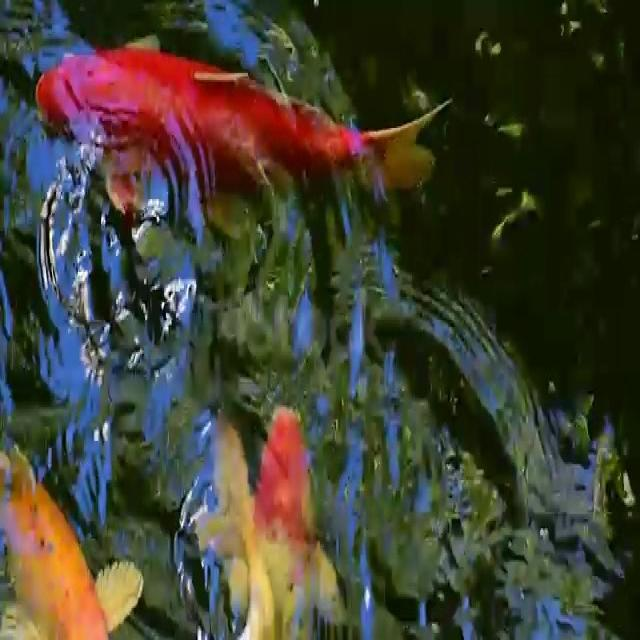fish: (16, 23, 462, 272), (1, 422, 128, 640), (251, 398, 337, 640), (200, 407, 259, 640)
